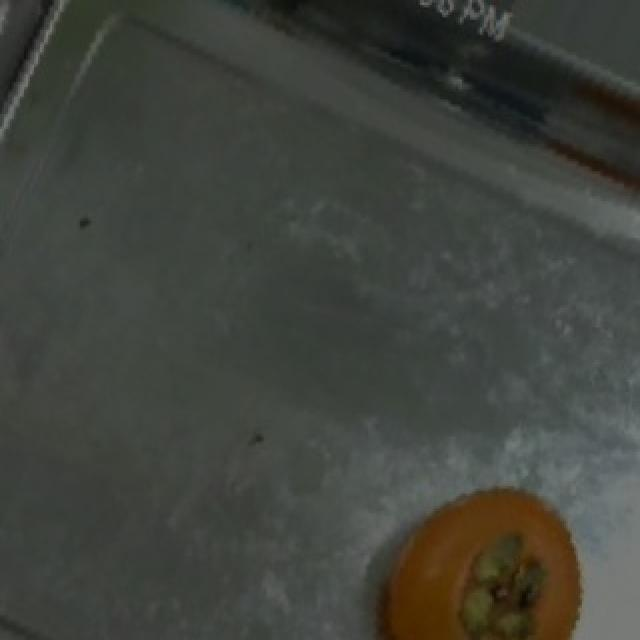Fruit: (354, 469, 606, 640)
